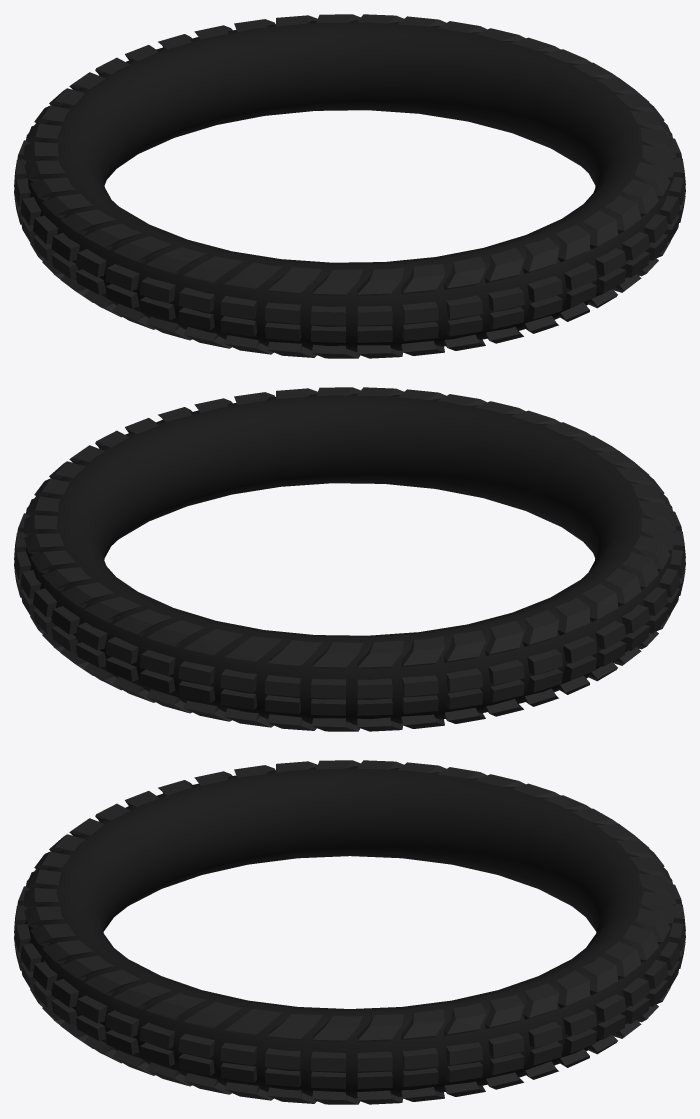
The model's file is LunTai_ZiXingChe_1X7_off.FBX.
3 renders of one model, top to bottom at view 1: azimuth 30°, elevation 25°; view 2: azimuth 150°, elevation 25°; view 3: azimuth 270°, elevation 25°, orthographic.
Visible parts, largest first — view 1: LunTai; view 2: LunTai; view 3: LunTai.
Boxes of the visible parts, x1,y1,x2,y2 form: LunTai: (14,14,685,358); LunTai: (14,387,685,731); LunTai: (14,760,685,1104).
Size of the model in its own units: 7.22 by 0.9946 by 7.23.
